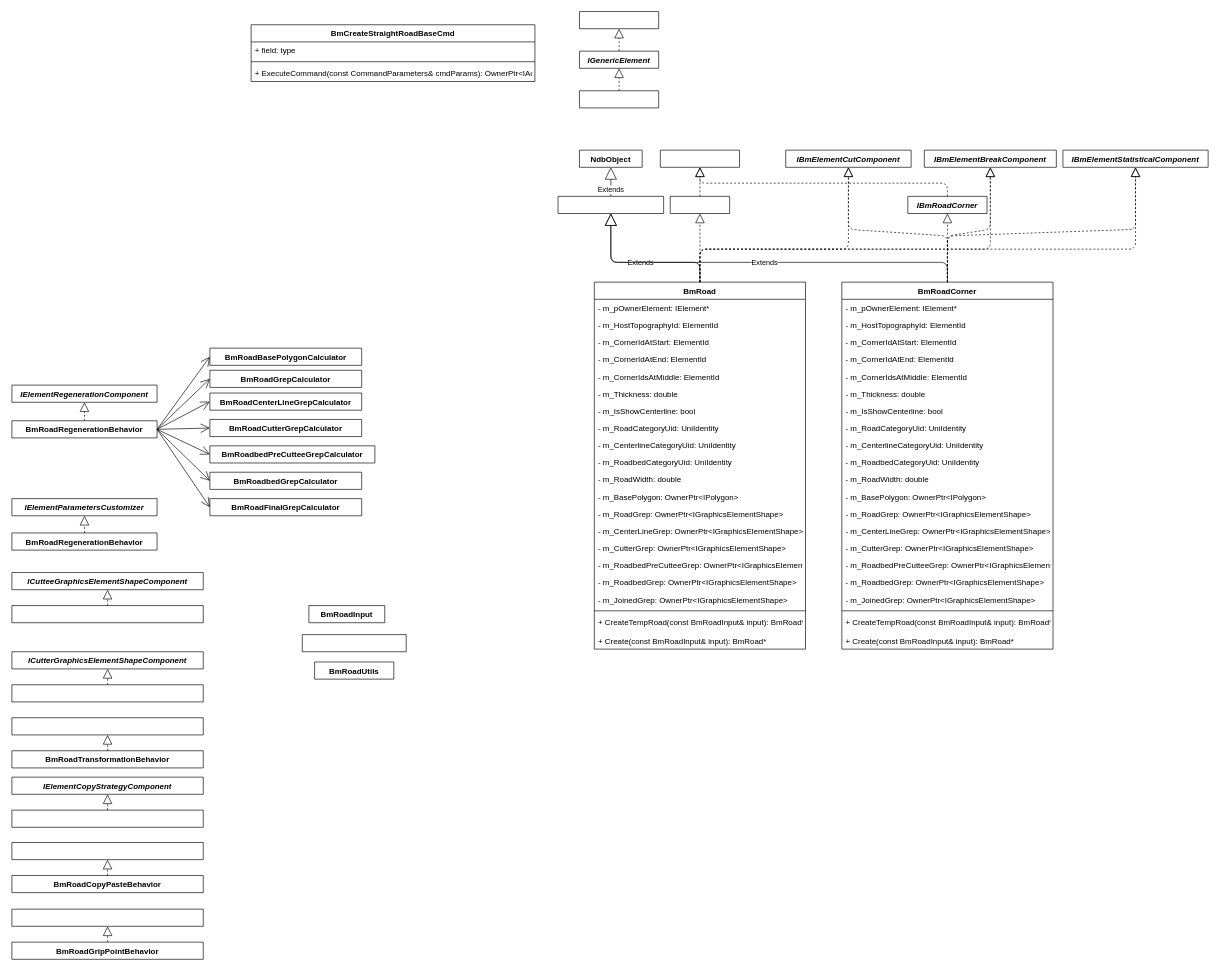
Some shapes in this 1220 by 971 pixel diagram are drawn without their labels. The shapes that lost their labels are listed below. From the top down, each one's centre as x and y in pixels, then its label:
At (x=619, y=20): "IElement".
At (x=619, y=99): "GenericElement".
At (x=700, y=158): "IExternalObject".
At (x=610, y=205): "NdbObjectSchematic".
At (x=700, y=205): "IBmRoad".
At (x=107, y=614): "BmRoadCutteeGRepComponent".
At (x=354, y=643): "RoadCornerJoinData".
At (x=107, y=693): "BmRoadCutterGRepComponent".
At (x=107, y=726): "IElementTransformationComponent".
At (x=107, y=818): "BmRoadCopyStrategyComponent".
At (x=107, y=851): "IBmElementCopyPasteComponent".
At (x=107, y=917): "IElementShapeHandleBehavior".
